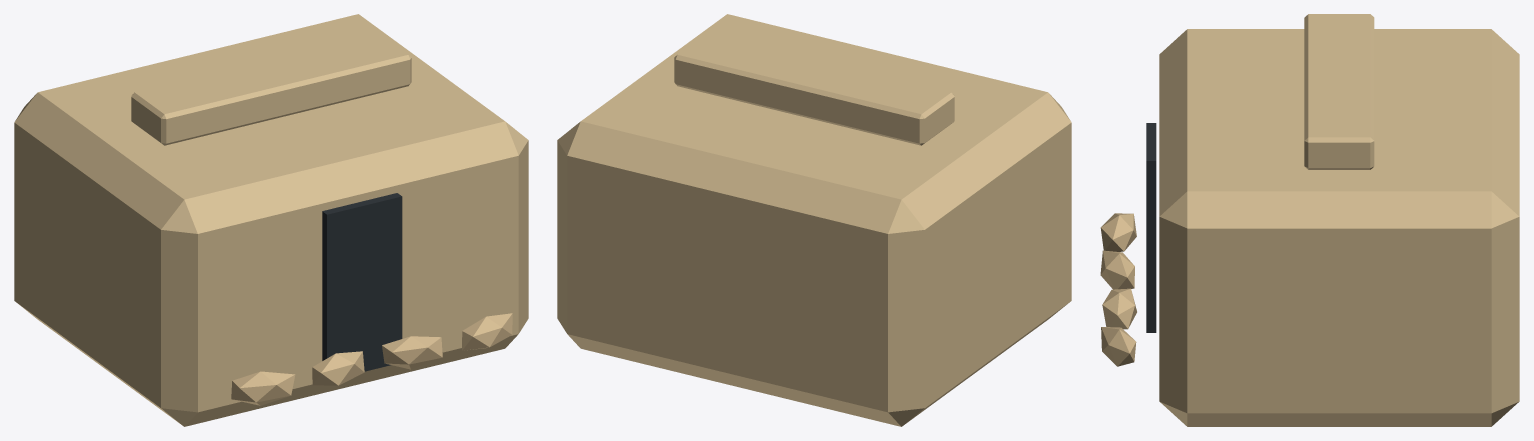
The model's file is seeds.glb.
3 views of the same model, side by side, from view 1: azimuth 30°, elevation 25°; view 2: azimuth 150°, elevation 25°; view 3: azimuth 270°, elevation 25° (orthographic). The views are drawn at different scales.
Parts seen in each view (by area): view 1: seeds / Sand and paper, seeds / Rubber and recesses, seeds / Amorium; view 2: seeds / Sand and paper; view 3: seeds / Sand and paper, seeds / Amorium, seeds / Rubber and recesses.
Part boxes in pixels (box(x1,y1,x2,y2)): seeds / Sand and paper: box(14, 14, 528, 426); seeds / Rubber and recesses: box(322, 193, 402, 371); seeds / Amorium: box(231, 313, 512, 405); seeds / Sand and paper: box(557, 14, 1071, 426); seeds / Sand and paper: box(1159, 14, 1519, 426); seeds / Amorium: box(1100, 213, 1136, 366); seeds / Rubber and recesses: box(1146, 123, 1156, 332).
Size of the model in its own units: 0.22 by 0.149 by 0.2095.
